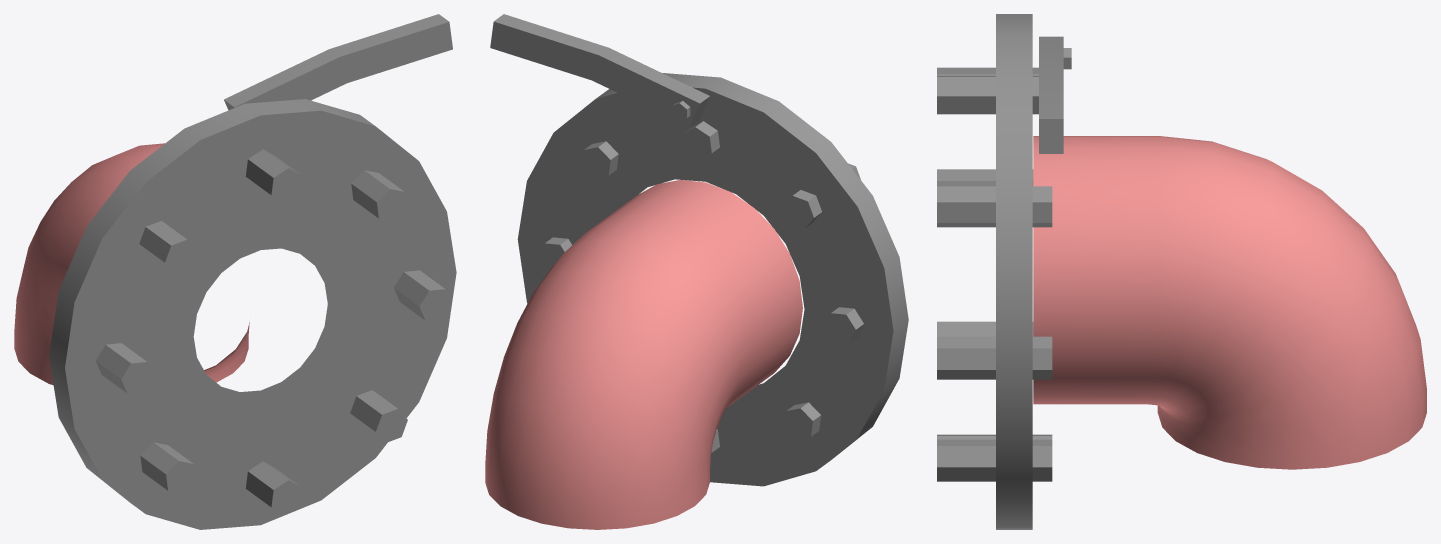
Rendered from SM_Sliv_All_Truba_02.gltf.
3 renders of one model, left to right at view 1: azimuth 30°, elevation 25°; view 2: azimuth 150°, elevation 25°; view 3: azimuth 270°, elevation 25°, orthographic. The views are drawn at different scales.
Parts seen in each view (by area): view 1: SM_Sliv_All_Truba_02; view 2: SM_Sliv_All_Truba_02; view 3: SM_Sliv_All_Truba_02.
Boxes of the visible parts, x1,y1,x2,y2 form: SM_Sliv_All_Truba_02: (14,14,456,529); SM_Sliv_All_Truba_02: (485,14,908,529); SM_Sliv_All_Truba_02: (937,14,1426,529).
Bounding box in the file's own units: 0.2608 × 0.2689 × 0.2366.
